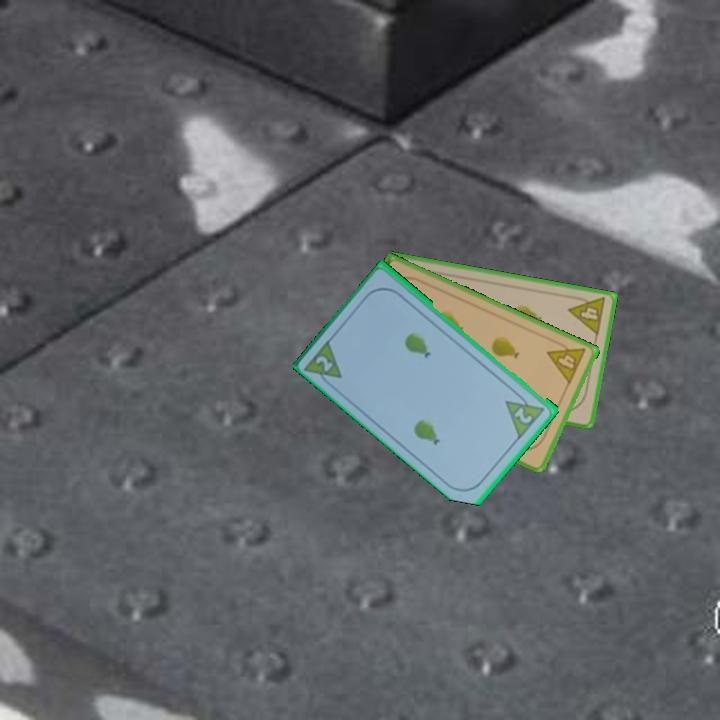2p: (312, 352, 336, 375), (511, 404, 536, 426)
4p: (544, 336, 589, 387), (565, 292, 609, 338)
